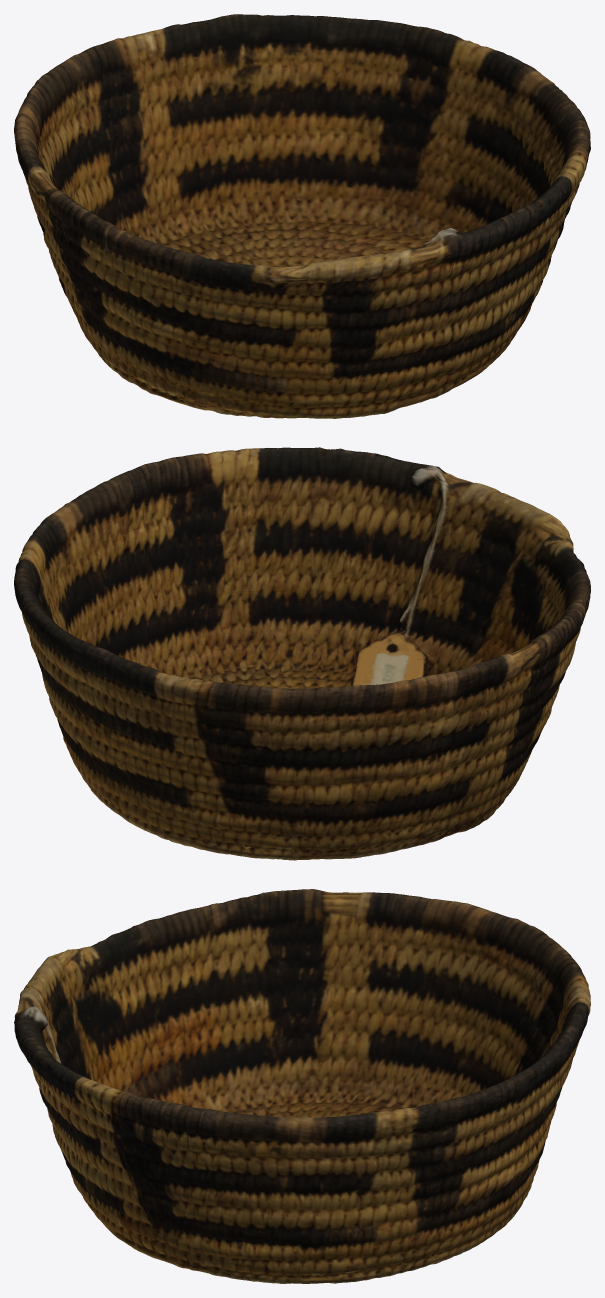
Rendered from basket_3017 (1).glb.
3 views of the same model, one above another, from view 1: azimuth 30°, elevation 25°; view 2: azimuth 150°, elevation 25°; view 3: azimuth 270°, elevation 25° (orthographic). The views are drawn at different scales.
Parts seen in each view (by area): view 1: Object_3, Object_2; view 2: Object_3, Object_2; view 3: Object_3, Object_2.
Part boxes in pixels (x1,y1,x2,y2): Object_3: [14, 14, 590, 418]; Object_2: [14, 16, 590, 418]; Object_3: [14, 447, 589, 834]; Object_2: [15, 447, 590, 860]; Object_3: [15, 889, 590, 1283]; Object_2: [14, 890, 587, 1283].
Bounding box in the file's own units: 166 × 68.32 × 169.
Materials: 1 (1 with a texture image).
